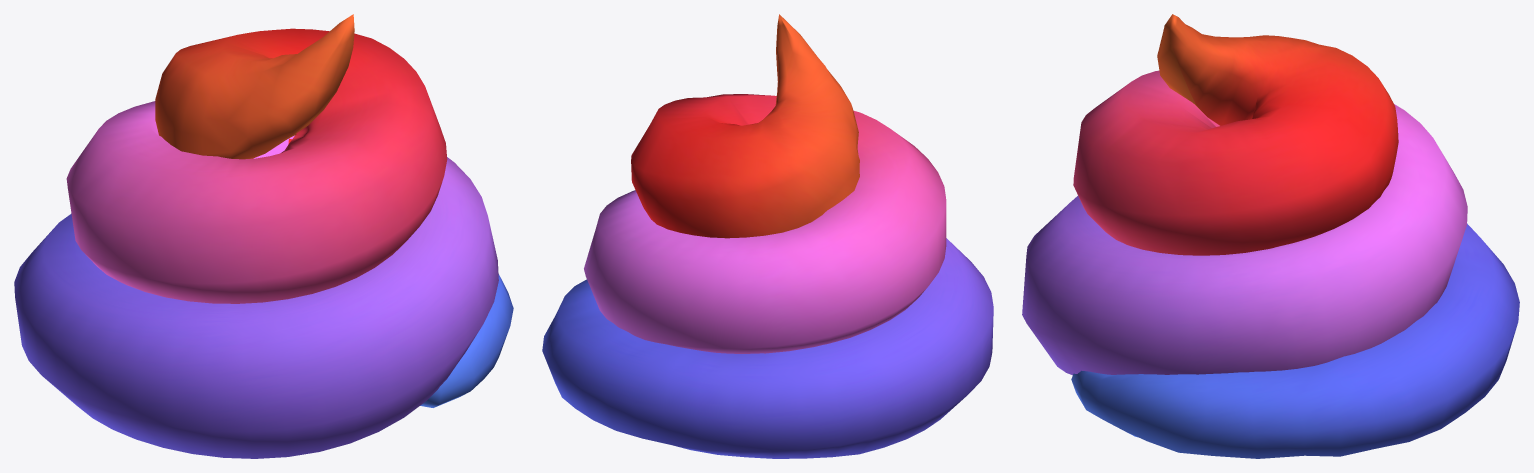
The picture shows the model from 3 angles, left to right: view 1: azimuth 30°, elevation 25°; view 2: azimuth 150°, elevation 25°; view 3: azimuth 270°, elevation 25°; orthographic projection. The views are drawn at different scales.
Parts seen in each view (by area): view 1: rainbow_poo_mesh1.1; view 2: rainbow_poo_mesh1.1; view 3: rainbow_poo_mesh1.1.
Part boxes in pixels (x1,y1,x2,y2): rainbow_poo_mesh1.1: (14,14,513,458); rainbow_poo_mesh1.1: (542,14,993,458); rainbow_poo_mesh1.1: (1022,14,1519,458).
Size of the model in its own units: 0.2523 by 0.2087 by 0.2499.
Materials: 1 (1 with a texture image).
